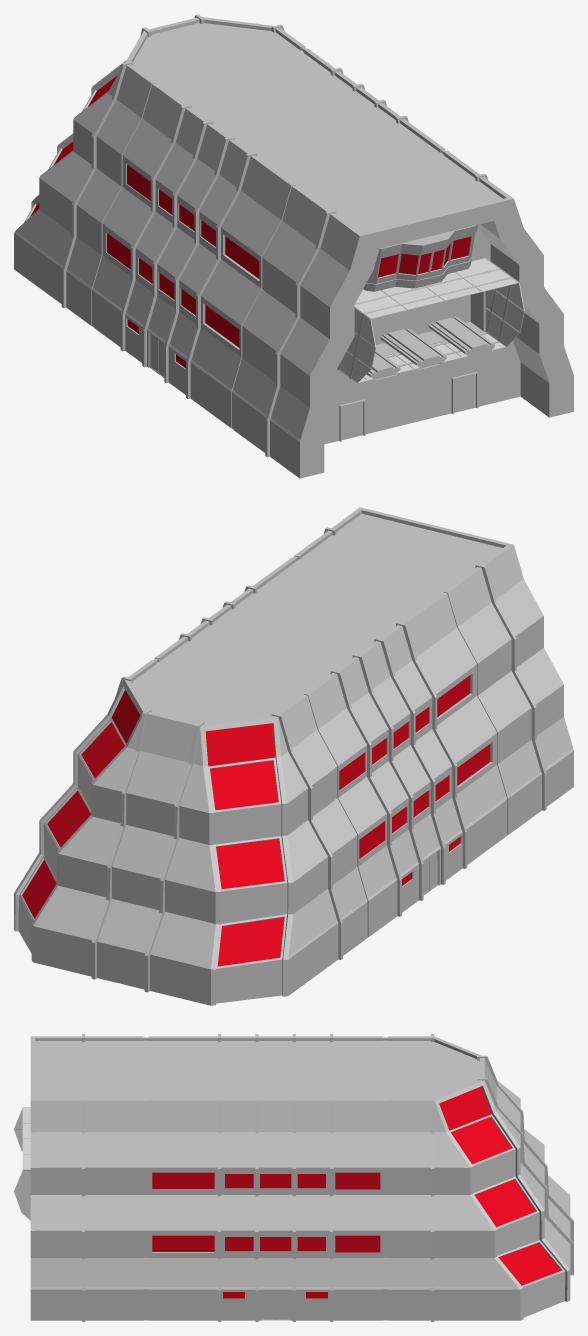
The model's file is SM_monorai_depot_01.gltf.
The picture shows the model from 3 angles, top to bottom: view 1: azimuth 30°, elevation 25°; view 2: azimuth 150°, elevation 25°; view 3: azimuth 270°, elevation 25°; orthographic projection. The views are drawn at different scales.
Visible parts, largest first — view 1: monorai_depot_01; view 2: monorai_depot_01; view 3: monorai_depot_01.
Part boxes in pixels (x1=…): monorai_depot_01: x1=14, y1=14, x2=573, y2=478; monorai_depot_01: x1=14, y1=507, x2=573, y2=1005; monorai_depot_01: x1=14, y1=1034, x2=573, y2=1321.
Bounding box in the file's own units: 12.23 × 9.57 × 24.78.
